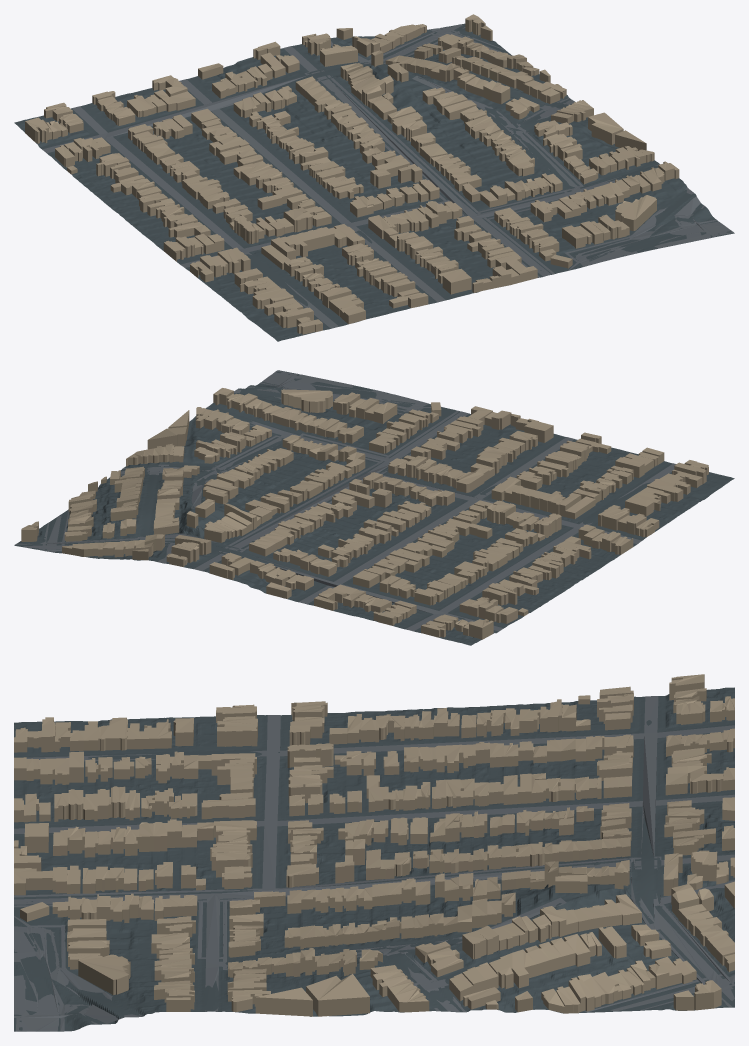
The model's file is epsg26910-1427-10872.lod0.glb.
3 renders of one model, top to bottom at view 1: azimuth 30°, elevation 25°; view 2: azimuth 150°, elevation 25°; view 3: azimuth 270°, elevation 25°, orthographic. The views are drawn at different scales.
Parts seen in each view (by area): view 1: epsg26910-1427-10872-lod0; view 2: epsg26910-1427-10872-lod0; view 3: epsg26910-1427-10872-lod0.
Part boxes in pixels (x1,y1,x2,y2): epsg26910-1427-10872-lod0: [14, 14, 734, 341]; epsg26910-1427-10872-lod0: [14, 370, 734, 645]; epsg26910-1427-10872-lod0: [14, 674, 734, 1031].
Size of the model in its own units: 384 by 42.09 by 384.
